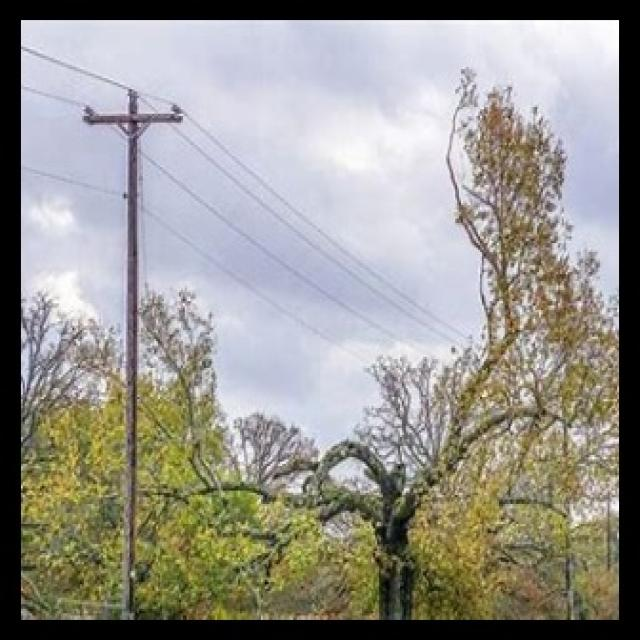utility poles: (82, 73, 175, 620)
